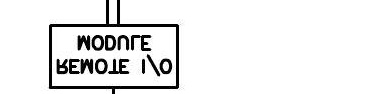remote_io_module: (48, 24, 179, 89)
